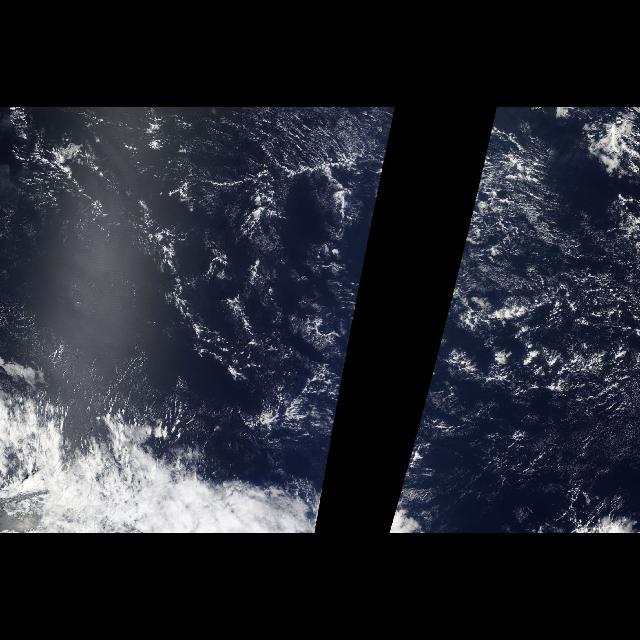Sugar: (28, 111, 382, 382), (466, 140, 632, 472)
